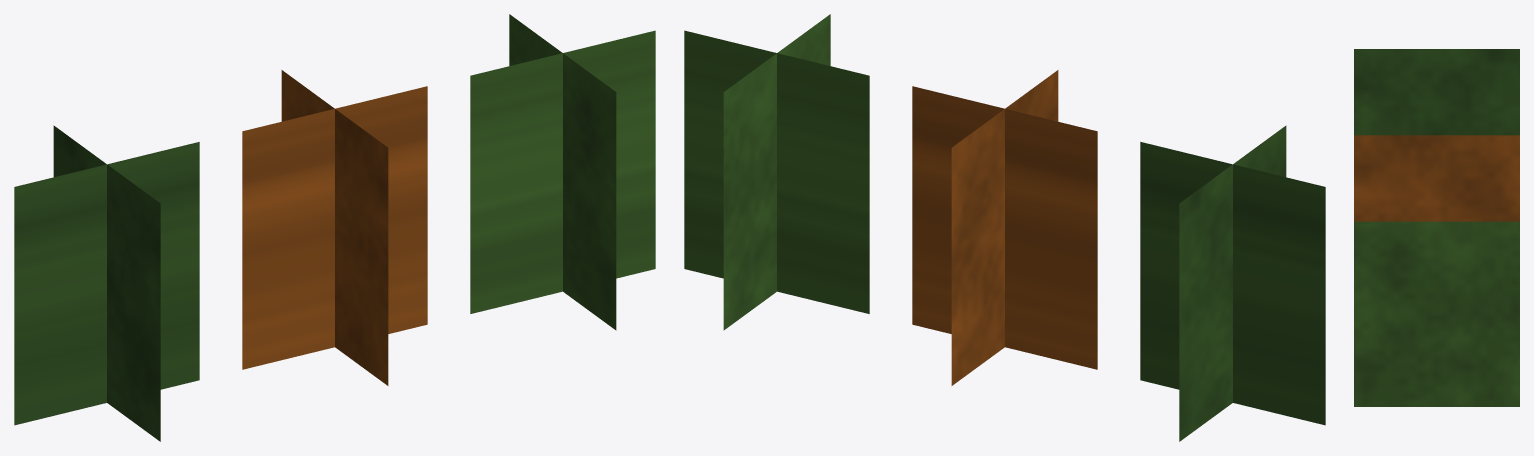
The model's file is tree_oak_bb.glb.
The picture shows the model from 3 angles, left to right: view 1: azimuth 30°, elevation 25°; view 2: azimuth 150°, elevation 25°; view 3: azimuth 270°, elevation 25°; orthographic projection. The views are drawn at different scales.
Visible parts, largest first — view 1: tree_oak_bb_v1, tree_oak_bb_v3, tree_oak_bb_v2; view 2: tree_oak_bb_v1, tree_oak_bb_v3, tree_oak_bb_v2; view 3: tree_oak_bb_v3, tree_oak_bb_v1, tree_oak_bb_v2.
Boxes of the visible parts, box(x1,y1,x2,y2) form: tree_oak_bb_v1: box(14, 125, 199, 441); tree_oak_bb_v3: box(470, 14, 655, 330); tree_oak_bb_v2: box(242, 70, 427, 385); tree_oak_bb_v1: box(1140, 125, 1325, 441); tree_oak_bb_v3: box(684, 14, 869, 330); tree_oak_bb_v2: box(912, 70, 1097, 385); tree_oak_bb_v3: box(1354, 221, 1519, 406); tree_oak_bb_v1: box(1354, 49, 1519, 135); tree_oak_bb_v2: box(1354, 135, 1519, 221).
Size of the model in its own units: 22.5 by 8 by 6.5.
1 material, 1 textured.
